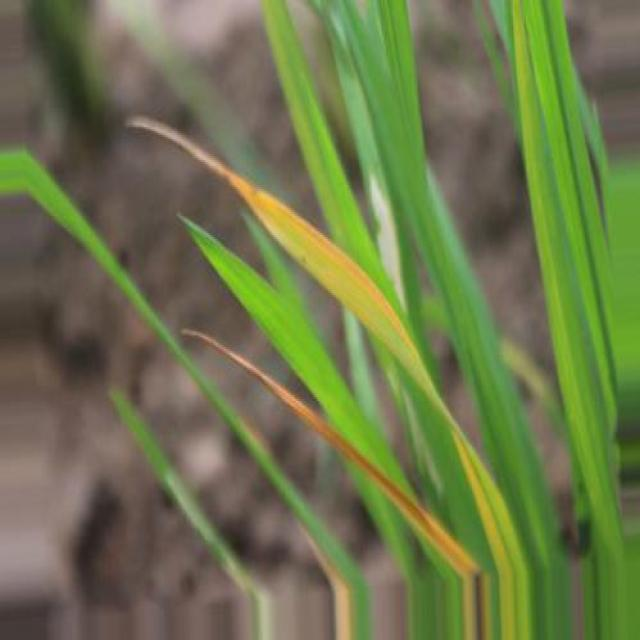Rice Tungro: (130, 116, 454, 420), (184, 332, 480, 580)
